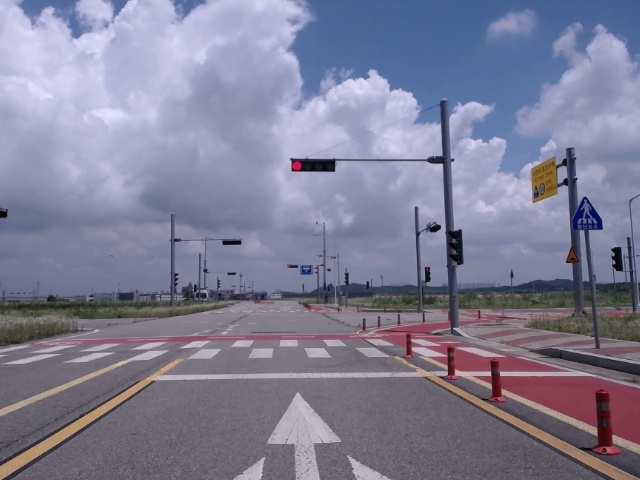red_4: (292, 159, 335, 172)
